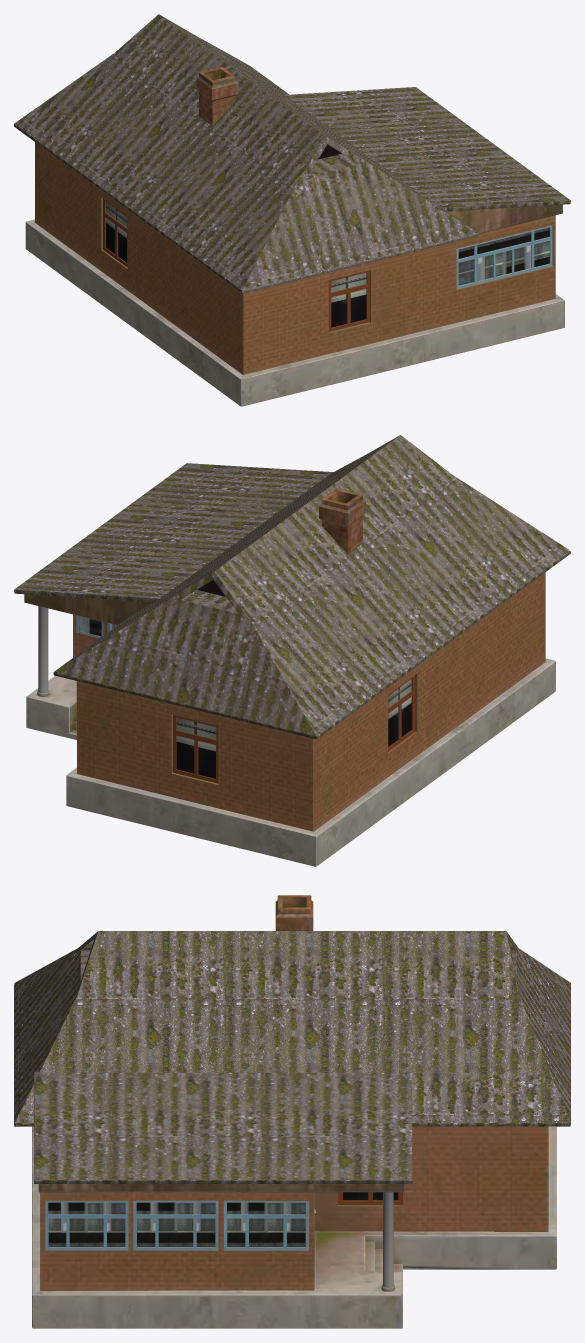
The model's file is house-brick.glb.
3 views of the same model, one above another, from view 1: azimuth 30°, elevation 25°; view 2: azimuth 150°, elevation 25°; view 3: azimuth 270°, elevation 25° (orthographic). The views are drawn at different scales.
Parts seen in each view (by area): view 1: Roof.001_16, BASE.001_10, Roof 2.001_17, Window terrace 6.002_38, Visor.001_18, flue.001_14, Window terrace 6_21, Window 4.004_32, Window 4.001_20, Window 3.004_30, Window 3.001_19; view 2: Roof.001_16, BASE.001_10, Roof 2.001_17, flue.001_14, Visor.001_18, Window 4.003_31, Window 4.002_28, Window 3.004_30, pipe.001_15, Window 3.001_19; view 3: Roof.001_16, BASE.001_10, Roof 2.001_17, Visor.001_18, Window terrace 4.001_36, Window terrace 3.001_35, Window terrace 5.002_37, Window terrace 4_25, Window terrace 3_22, Window terrace 5_26, flue.001_14, pipe.001_15.
Part boxes in pixels (x1,y1,x2,y2): Roof.001_16: (14, 14, 478, 293); BASE.001_10: (25, 142, 564, 406); Roof 2.001_17: (285, 87, 570, 211); Window terrace 6.002_38: (458, 227, 549, 285); Visor.001_18: (446, 204, 562, 233); flue.001_14: (196, 67, 238, 125); Window terrace 6_21: (456, 225, 552, 289); Window 4.004_32: (331, 273, 366, 327); Window 4.001_20: (328, 270, 369, 331); Window 3.004_30: (106, 202, 127, 262); Window 3.001_19: (103, 198, 127, 267); Roof.001_16: (53, 435, 570, 739); BASE.001_10: (26, 572, 555, 866); Roof 2.001_17: (14, 463, 333, 601); flue.001_14: (319, 488, 365, 554); Visor.001_18: (24, 594, 152, 625); Window 4.003_31: (176, 717, 216, 778); Window 4.002_28: (173, 715, 218, 783); Window 3.004_30: (388, 679, 411, 746); pipe.001_15: (37, 606, 49, 696); Window 3.001_19: (388, 675, 414, 751); Roof.001_16: (14, 931, 570, 1126); BASE.001_10: (32, 1126, 556, 1328); Roof 2.001_17: (34, 1071, 412, 1183); Visor.001_18: (38, 1184, 404, 1192); Window terrace 4.001_36: (136, 1202, 215, 1246); Window terrace 3.001_35: (227, 1202, 305, 1246); Window terrace 5.002_37: (48, 1202, 125, 1246); Window terrace 4_25: (133, 1200, 218, 1250); Window terrace 3_22: (223, 1200, 309, 1250); Window terrace 5_26: (45, 1200, 128, 1250); flue.001_14: (275, 895, 313, 930); pipe.001_15: (381, 1192, 394, 1291).
Bounding box in the file's own units: 4.75 × 3.14 × 5.58.
13 materials, 9 textured.
